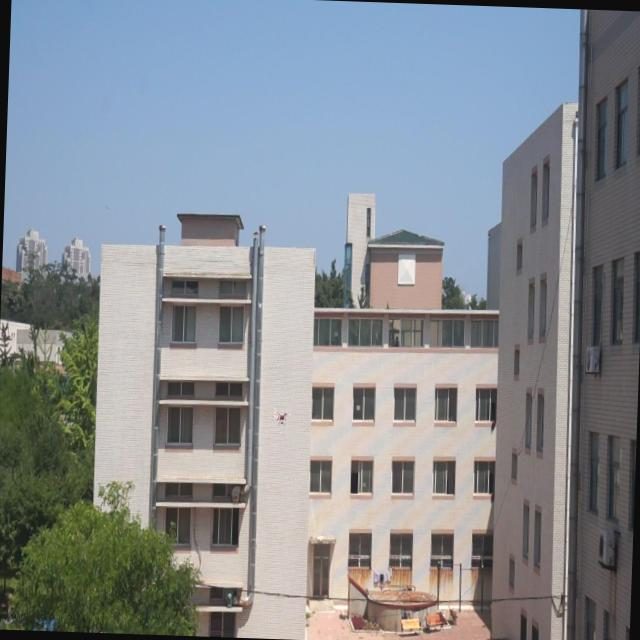drone: (267, 402, 295, 431)
